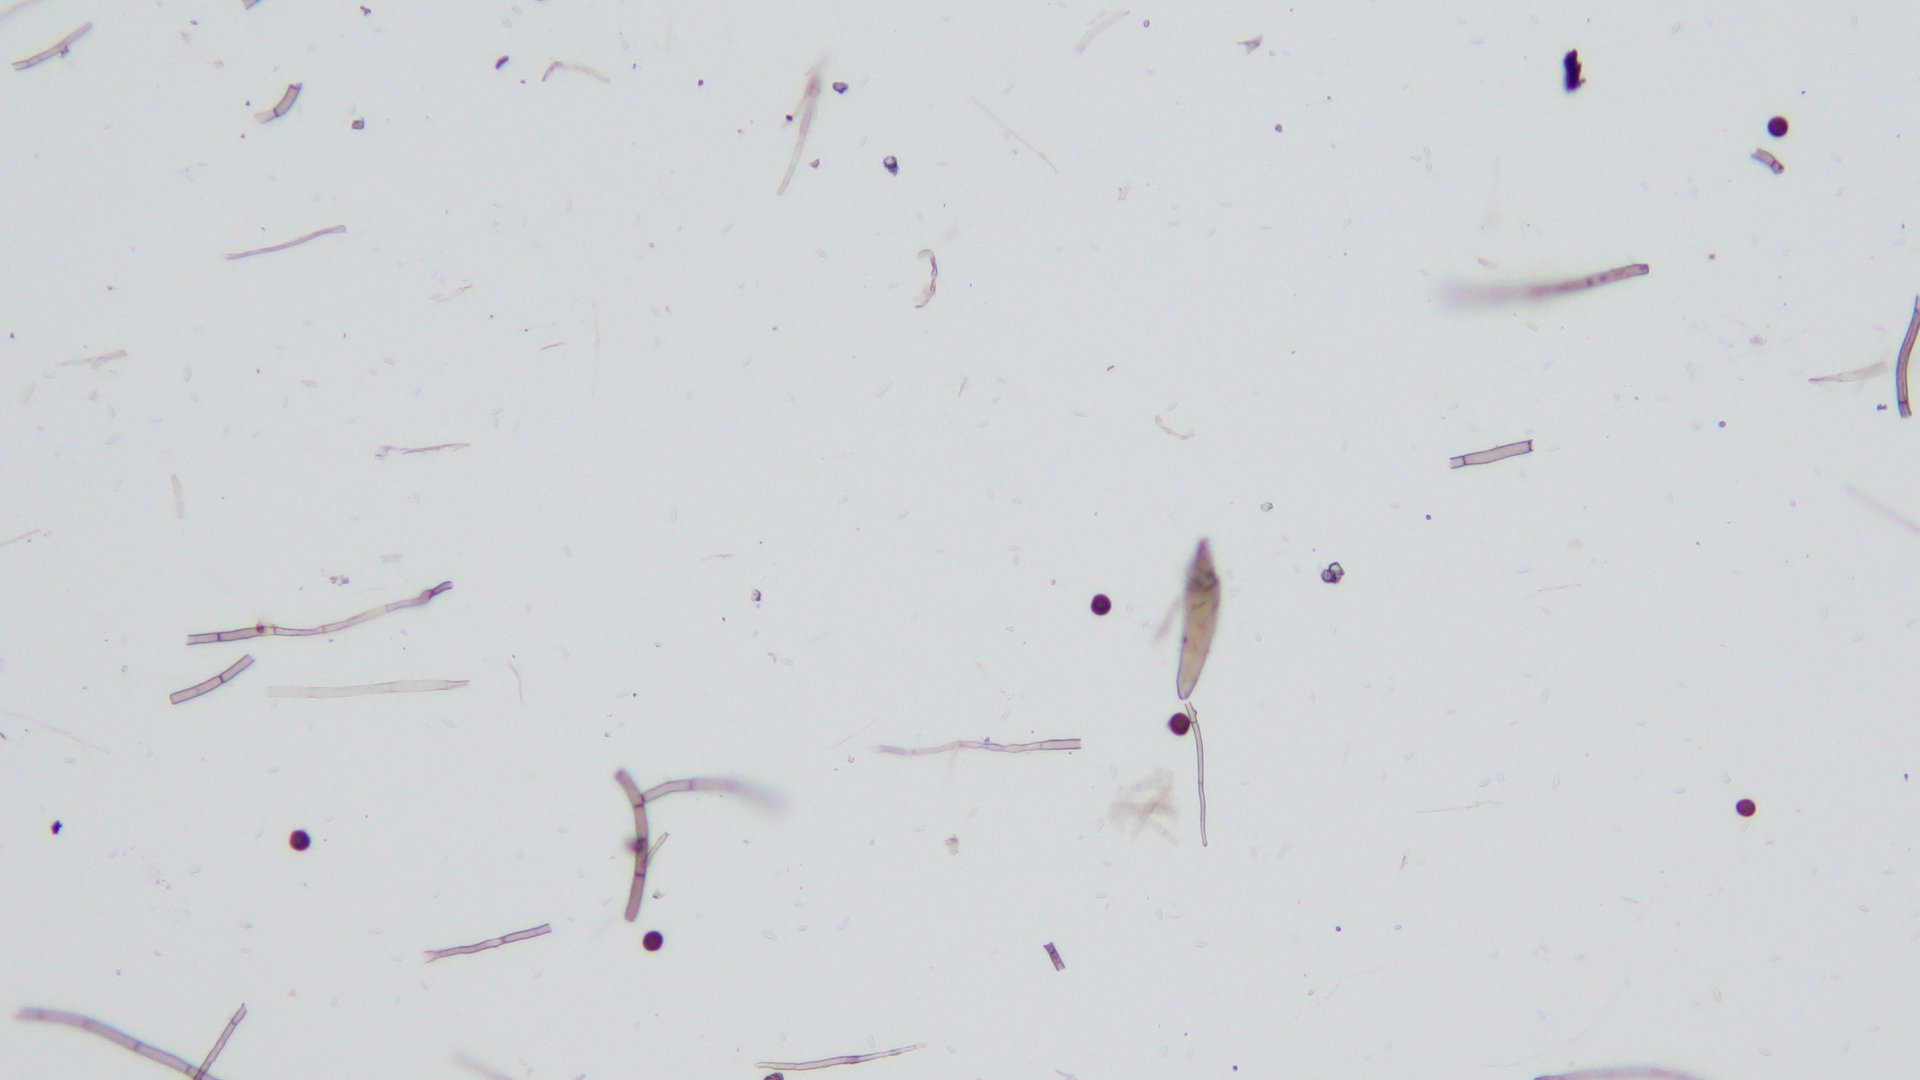dbb_spore: (1174, 546, 1217, 702)
shs_spore: (641, 928, 665, 952), (1167, 713, 1191, 736), (1766, 116, 1789, 138), (287, 831, 313, 851), (1735, 796, 1756, 818), (1091, 595, 1112, 615)
